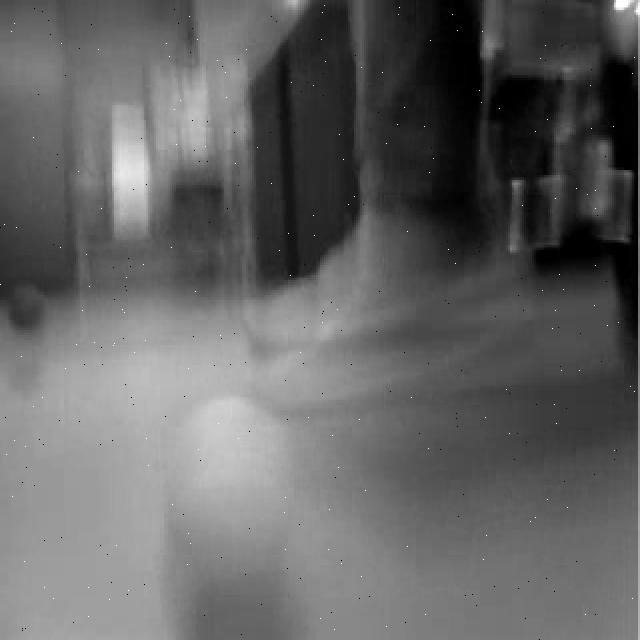ping-pong-ball: (149, 419, 302, 613)
